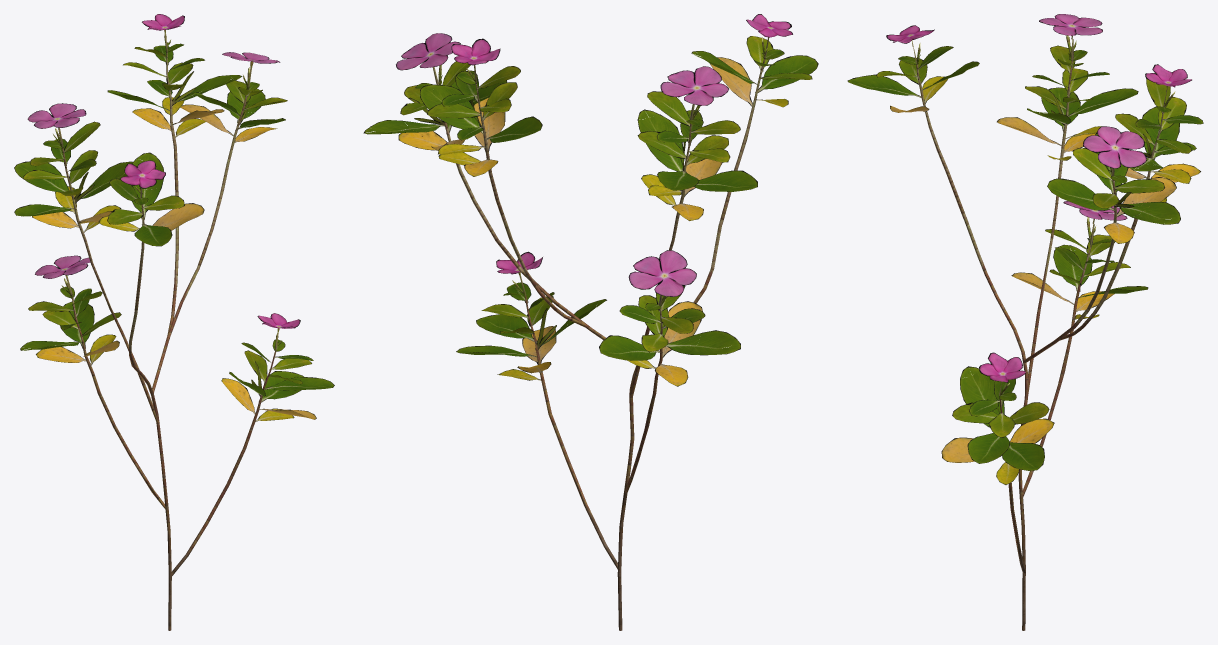
Rendered from groundcover_01.glb.
The picture shows the model from 3 angles, left to right: view 1: azimuth 30°, elevation 25°; view 2: azimuth 150°, elevation 25°; view 3: azimuth 270°, elevation 25°; orthographic projection. The views are drawn at different scales.
Parts seen in each view (by area): view 1: groundcover_01; view 2: groundcover_01; view 3: groundcover_01.
Part boxes in pixels (x1,y1,x2,y2): groundcover_01: (14, 14, 334, 630); groundcover_01: (363, 14, 818, 630); groundcover_01: (847, 14, 1203, 630).
Bounding box in the file's own units: 0.2311 × 0.4107 × 0.2248.
Materials: 1 (1 with a texture image).
